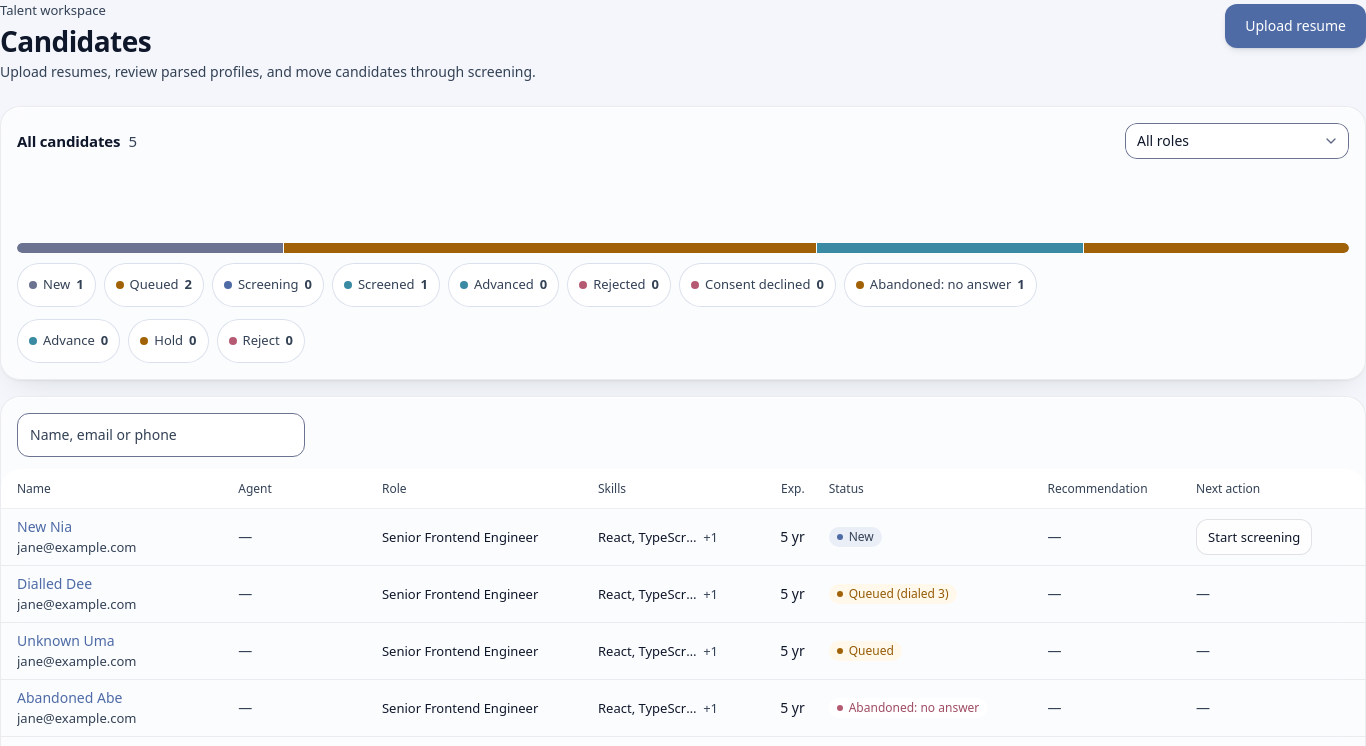
Test: CandidatesPage phone status › filters to abandoned candidates and writes ?status=abandoned_no_answer
Expected: the link "Dialled Dee" is shown, [17,574,92,593]
Step 1. Click the button "Abandoned: no answer 1" → (940, 285), box [844,263,1037,307]
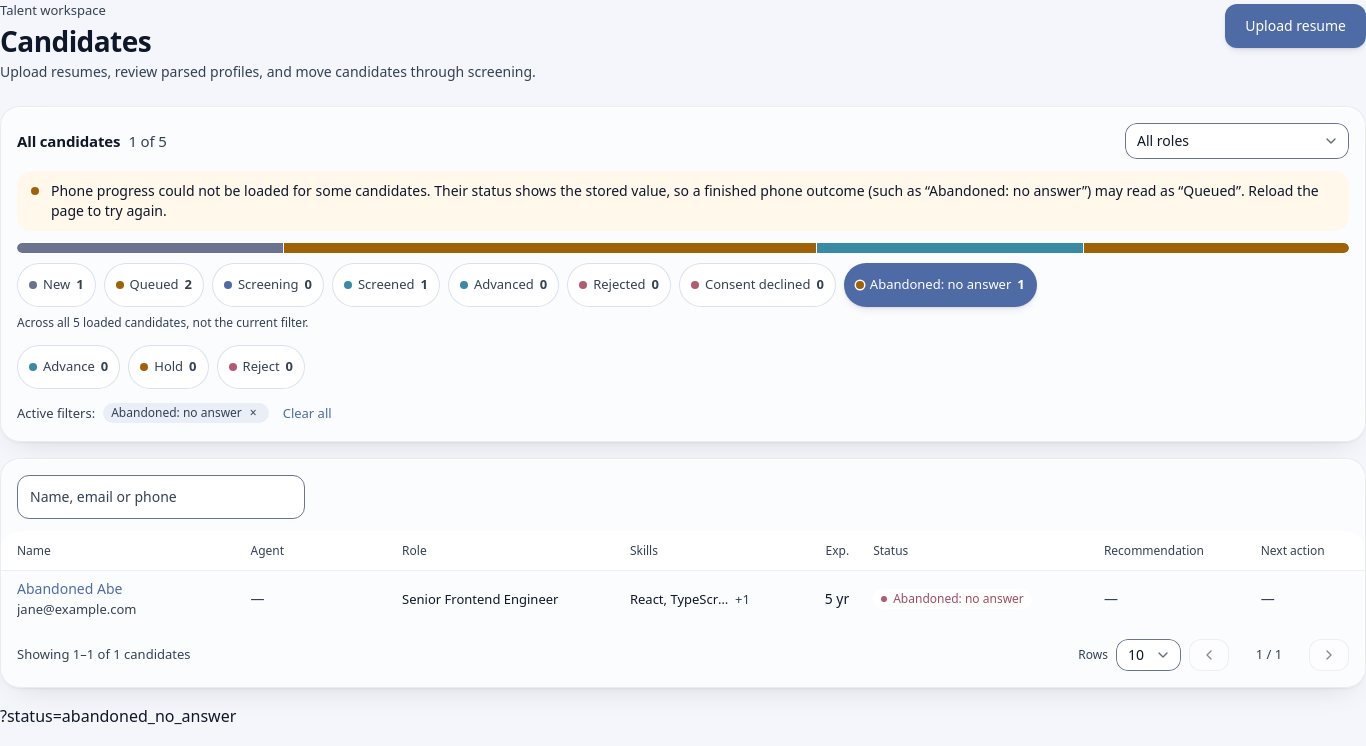
Result: the text with test id "location" reads "?status=abandoned_no_answer" at [0,705,236,727]
Result: the button named "Remove filter Abandoned: no answer" is shown at [246,405,261,421]
